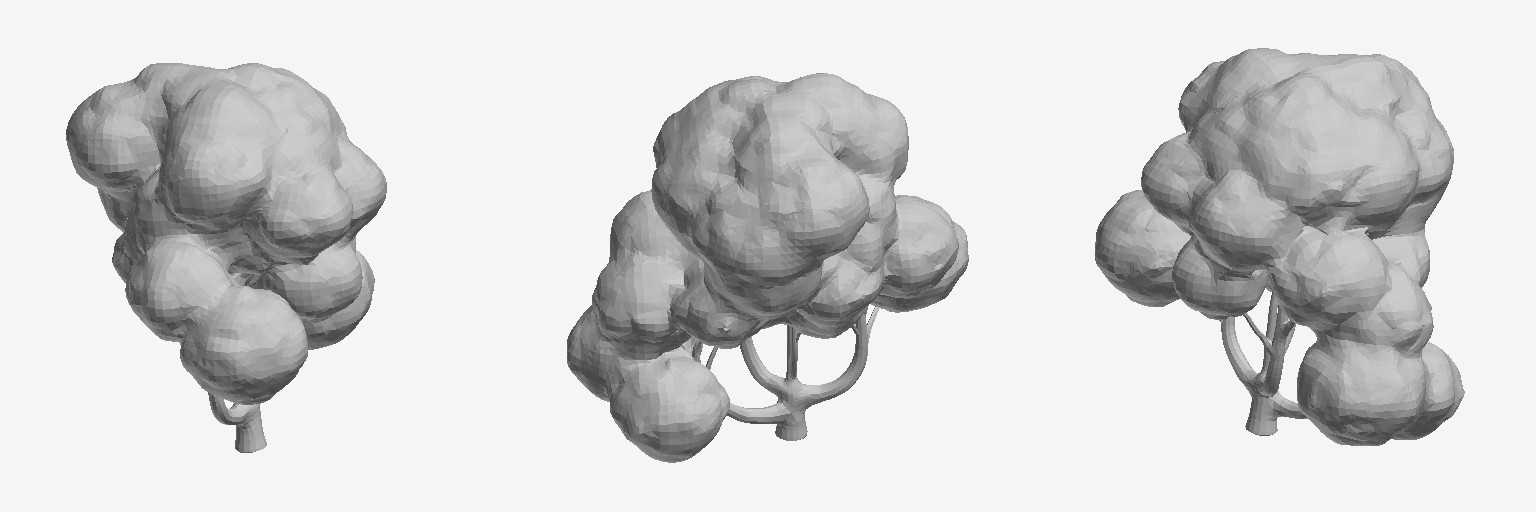
The model's file is tree.obj.
The picture shows the model from 3 angles: view 1: azimuth 30°, elevation 25°; view 2: azimuth 150°, elevation 25°; view 3: azimuth 270°, elevation 25°; orthographic projection.
Parts seen in each view (by area): view 1: 10445_Oak_Tree_v1_max2010_iteration-1; view 2: 10445_Oak_Tree_v1_max2010_iteration-1; view 3: 10445_Oak_Tree_v1_max2010_iteration-1.
Part boxes in pixels (x1,y1,x2,y2): 10445_Oak_Tree_v1_max2010_iteration-1: (66,63,386,452); 10445_Oak_Tree_v1_max2010_iteration-1: (567,73,968,462); 10445_Oak_Tree_v1_max2010_iteration-1: (1095,48,1464,445).
Bounding box in the file's own units: 137 × 159 × 146.